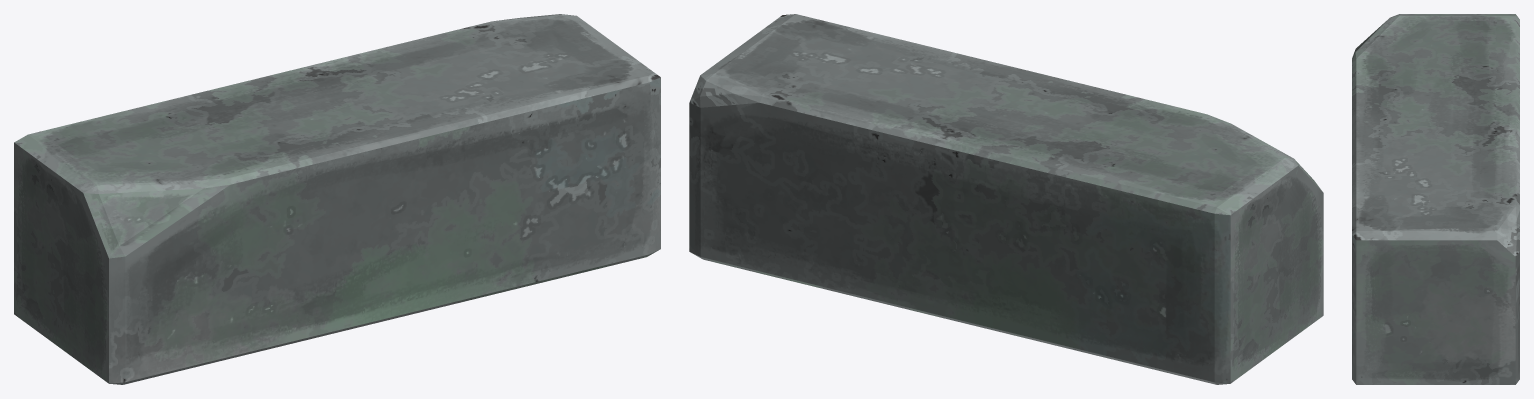
Rendered from roadcube04.fbx.
3 views of the same model, side by side, from view 1: azimuth 30°, elevation 25°; view 2: azimuth 150°, elevation 25°; view 3: azimuth 270°, elevation 25° (orthographic). The views are drawn at different scales.
Visible parts, largest first — view 1: roadcube04; view 2: roadcube04; view 3: roadcube04.
Boxes of the visible parts, left/top/right/bottom form: roadcube04: left=14, top=14, right=660, bottom=384; roadcube04: left=689, top=14, right=1323, bottom=384; roadcube04: left=1352, top=14, right=1519, bottom=384.
Size of the model in its own units: 539 by 169 by 169.
